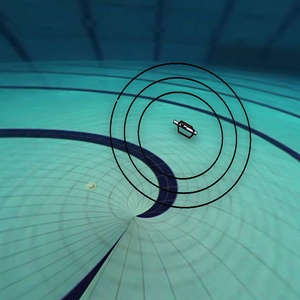circle: (96, 50, 260, 216)
submarine: (164, 110, 204, 148)
